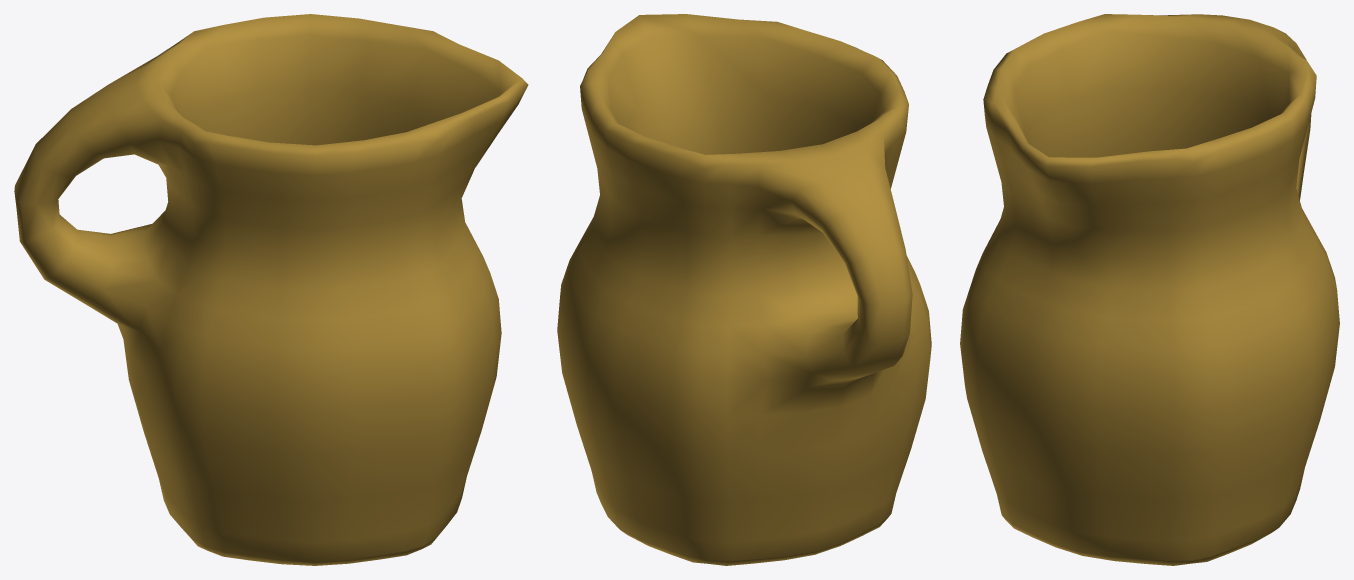
Rendered from old_jar.gltf.
3 renders of one model, left to right at view 1: azimuth 30°, elevation 25°; view 2: azimuth 150°, elevation 25°; view 3: azimuth 270°, elevation 25°, orthographic. The views are drawn at different scales.
Parts seen in each view (by area): view 1: jar_Plane; view 2: jar_Plane; view 3: jar_Plane.
Boxes of the visible parts, bbox=[...] form: jar_Plane: bbox=[14, 14, 528, 565]; jar_Plane: bbox=[557, 14, 931, 565]; jar_Plane: bbox=[960, 14, 1339, 565].
Bounding box in the file's own units: 0.2433 × 0.2511 × 0.2028.
